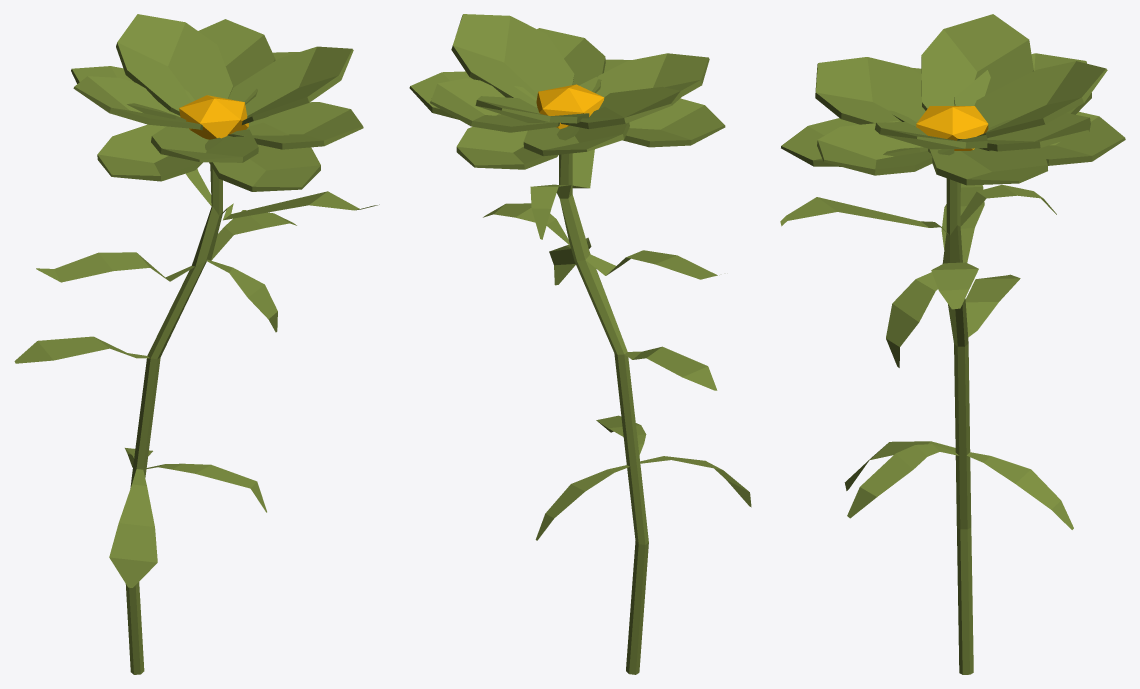
Rendered from Calendula_flower.glb.
The picture shows the model from 3 angles, left to right: view 1: azimuth 30°, elevation 25°; view 2: azimuth 150°, elevation 25°; view 3: azimuth 270°, elevation 25°; orthographic projection. The views are drawn at different scales.
Parts seen in each view (by area): view 1: calendula-flower_orange_0, calendula-flower_green_0, calendula-flower_yellow_0; view 2: calendula-flower_orange_0, calendula-flower_green_0, calendula-flower_yellow_0; view 3: calendula-flower_orange_0, calendula-flower_green_0, calendula-flower_yellow_0.
Part boxes in pixels (x1,y1,x2,y2): calendula-flower_orange_0: (71,14,363,191); calendula-flower_green_0: (14,165,379,674); calendula-flower_yellow_0: (179,95,248,139); calendula-flower_orange_0: (409,14,725,169); calendula-flower_green_0: (483,149,751,674); calendula-flower_yellow_0: (536,84,604,129); calendula-flower_orange_0: (781,14,1125,185); calendula-flower_green_0: (780,178,1073,674); calendula-flower_yellow_0: (916,106,988,150).
Size of the model in its own units: 0.6344 by 1.2 by 0.5859.
